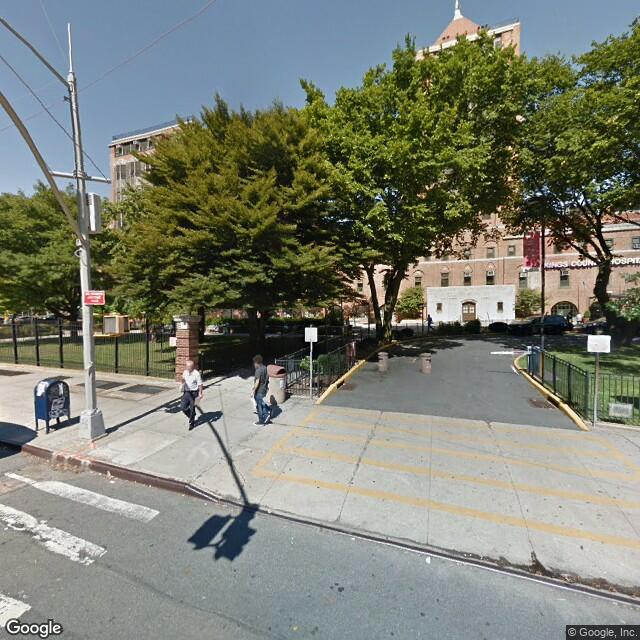litter: (105, 470, 115, 487), (424, 556, 434, 565)
